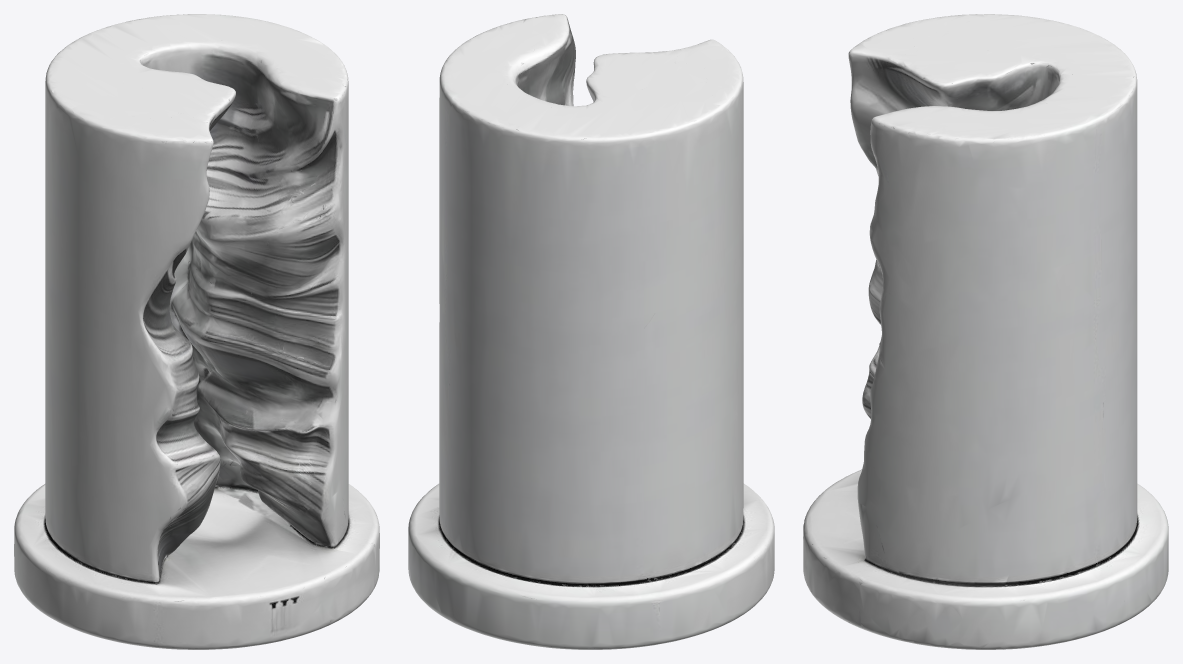
Rendered from antelope_canyon_meshy.glb.
3 renders of one model, left to right at view 1: azimuth 30°, elevation 25°; view 2: azimuth 150°, elevation 25°; view 3: azimuth 270°, elevation 25°, orthographic.
Visible parts, largest first — view 1: Mesh_0; view 2: Mesh_0; view 3: Mesh_0.
Boxes of the visible parts, box(x1,y1,x2,y2) form: Mesh_0: box(14, 14, 379, 649); Mesh_0: box(408, 14, 774, 649); Mesh_0: box(803, 14, 1168, 649).
Size of the model in its own units: 1.27 by 1.91 by 1.27.
1 material, 1 textured.
